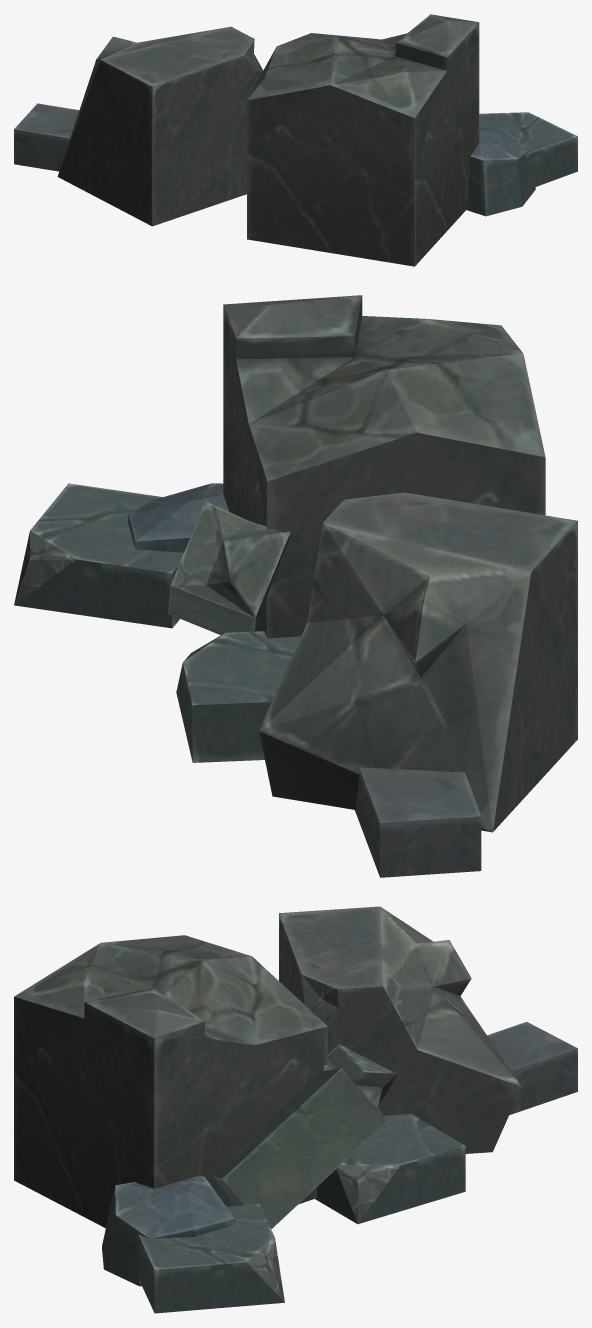
Rendered from jg_shidui01.fbx.
3 views of the same model, one above another, from view 1: azimuth 30°, elevation 25°; view 2: azimuth 150°, elevation 25°; view 3: azimuth 270°, elevation 25° (orthographic). The views are drawn at different scales.
Visible parts, largest first — view 1: polySurface18; view 2: polySurface18; view 3: polySurface18.
Part boxes in pixels (x1,y1,x2,y2): polySurface18: (14,14,577,266); polySurface18: (14,295,577,877); polySurface18: (14,906,577,1313).
Size of the model in its own units: 156 by 67.29 by 149.
